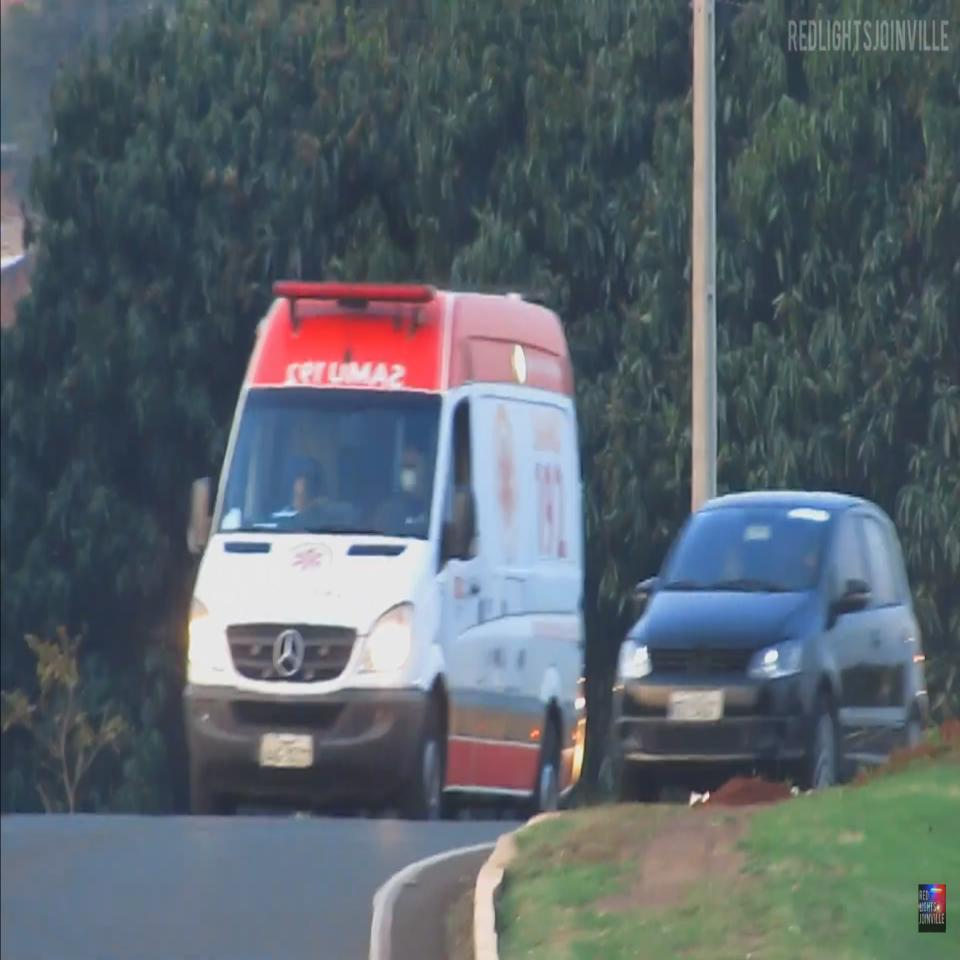bombeiro: (182, 277, 590, 830)
